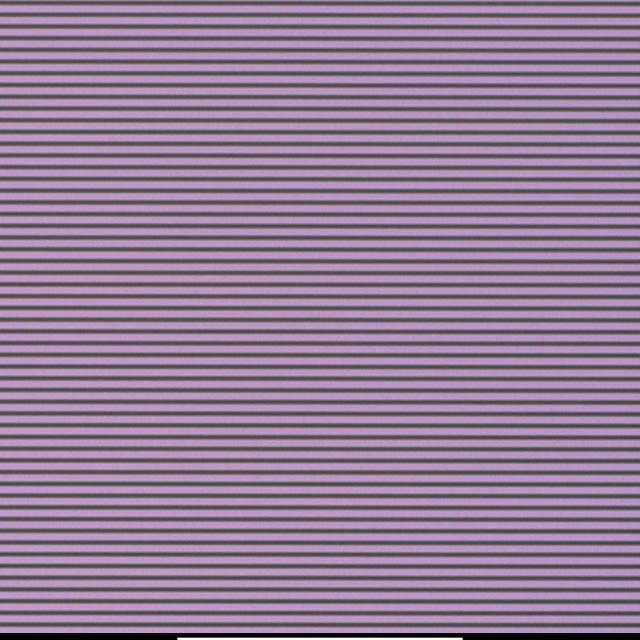nonvisual: (317, 304, 326, 312)
